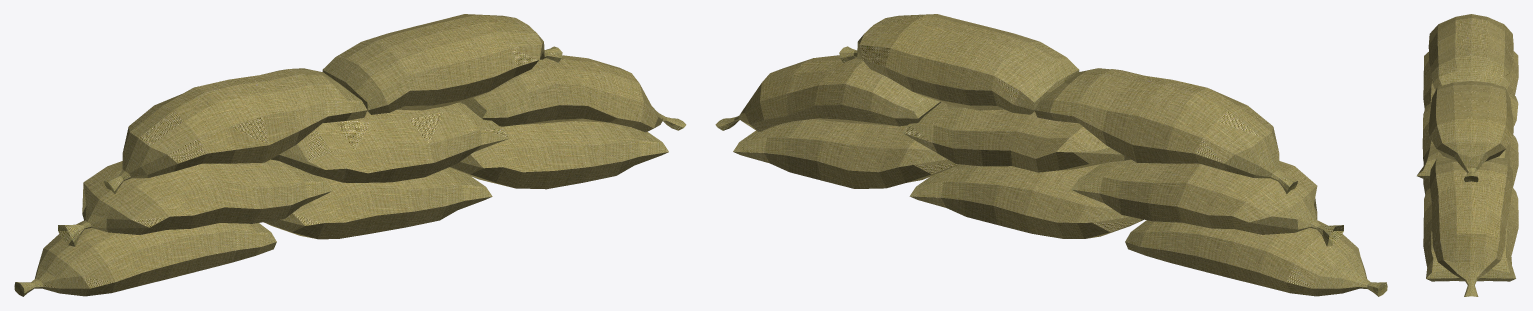
File: Worek.fbx
The picture shows the model from 3 angles, left to right: view 1: azimuth 30°, elevation 25°; view 2: azimuth 150°, elevation 25°; view 3: azimuth 270°, elevation 25°; orthographic projection. The views are drawn at different scales.
Visible parts, largest first — view 1: Cube.037, Cube.038, Cube.035, Cube.034, Cube.031, Cube.033, Cube.036, Cube.032; view 2: Cube.037, Cube.038, Cube.035, Cube.031, Cube.032, Cube.033, Cube.036, Cube.034; view 3: Cube.036, Cube.038, Cube.037, Cube.033, Cube.034, Cube.035, Cube.032.
Boxes of the visible parts, x1,y1,x2,y2 form: Cube.037: [104, 68, 367, 193]; Cube.038: [322, 14, 562, 114]; Cube.035: [58, 159, 332, 246]; Cube.034: [271, 102, 509, 182]; Cube.031: [14, 220, 276, 296]; Cube.033: [449, 121, 668, 189]; Cube.036: [460, 55, 686, 132]; Cube.032: [264, 167, 492, 239]; Cube.037: [1034, 68, 1297, 193]; Cube.038: [839, 14, 1079, 114]; Cube.035: [1071, 159, 1343, 246]; Cube.031: [1125, 220, 1387, 296]; Cube.032: [909, 164, 1143, 238]; Cube.033: [733, 119, 958, 188]; Cube.036: [715, 55, 940, 131]; Cube.034: [903, 102, 1130, 172]; Cube.036: [1430, 157, 1512, 296]; Cube.038: [1428, 81, 1513, 182]; Cube.037: [1428, 14, 1513, 90]; Cube.033: [1423, 187, 1518, 281]; Cube.034: [1417, 93, 1518, 178]; Cube.035: [1423, 51, 1518, 109]; Cube.032: [1423, 135, 1518, 194].
Bounding box in the file's own units: 3.31 × 0.7907 × 0.5987.
